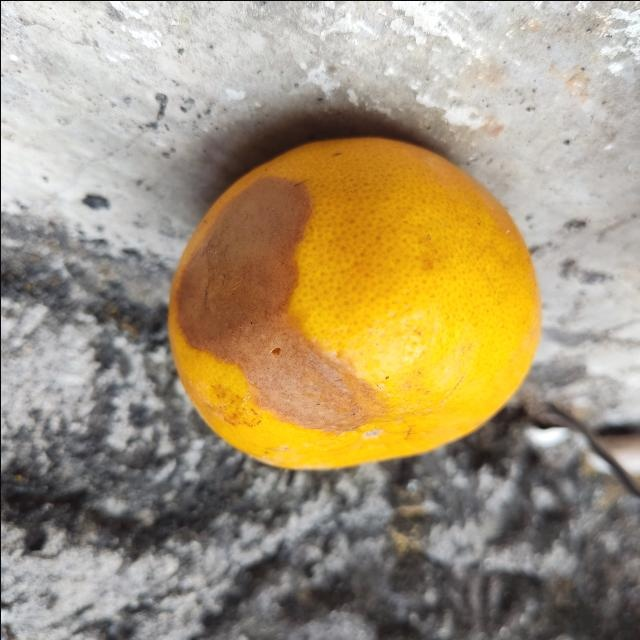agrume: (166, 136, 542, 472)
